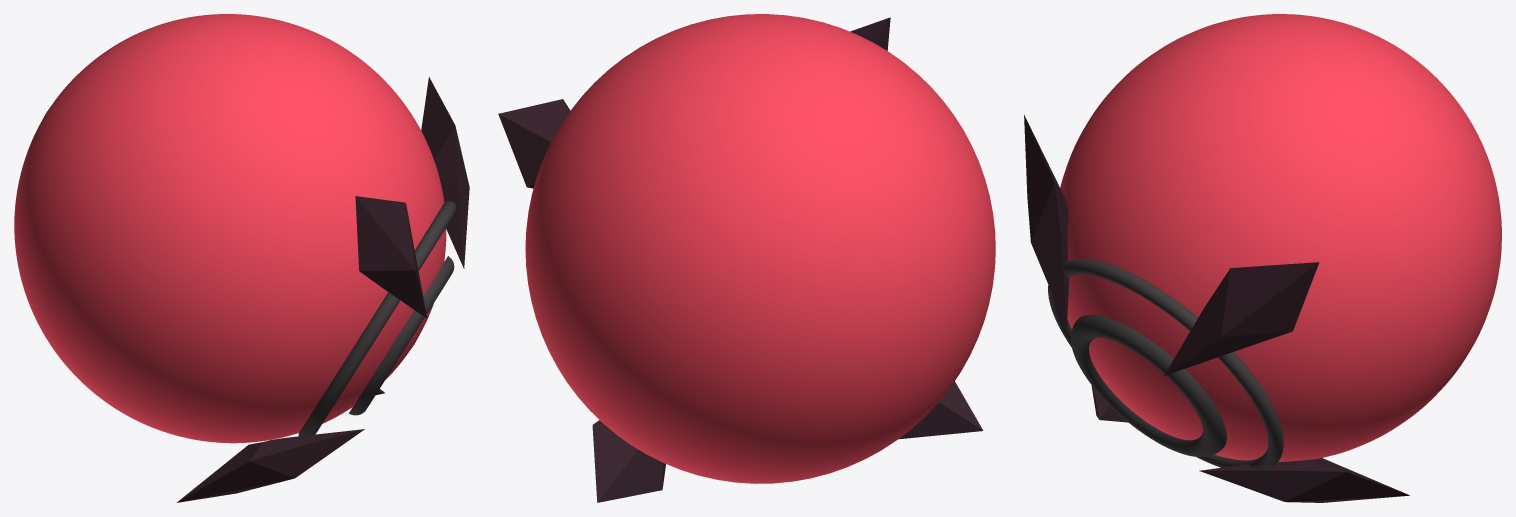
Rendered from enemy1.5_downLeft_anim.fbx.
3 renders of one model, left to right at view 1: azimuth 30°, elevation 25°; view 2: azimuth 150°, elevation 25°; view 3: azimuth 270°, elevation 25°, orthographic. The views are drawn at different scales.
Parts seen in each view (by area): view 1: enemy2_center, enemy2_tuno, enemy2_eye; view 2: enemy2_center, enemy2_tuno; view 3: enemy2_center, enemy2_tuno, enemy2_eye.
Boxes of the visible parts, x1=… form: enemy2_center: x1=14, y1=14, x2=446, y2=443; enemy2_tuno: x1=176, y1=77, x2=469, y2=502; enemy2_eye: x1=298, y1=201, x2=456, y2=436; enemy2_center: x1=525, y1=14, x2=995, y2=483; enemy2_tuno: x1=498, y1=17, x2=983, y2=502; enemy2_center: x1=1060, y1=14, x2=1501, y2=461; enemy2_tuno: x1=1024, y1=115, x2=1409, y2=502; enemy2_eye: x1=1048, y1=259, x2=1283, y2=470.
Bounding box in the file's own units: 85.83 × 84.03 × 84.14.
3 materials, 3 textured.
